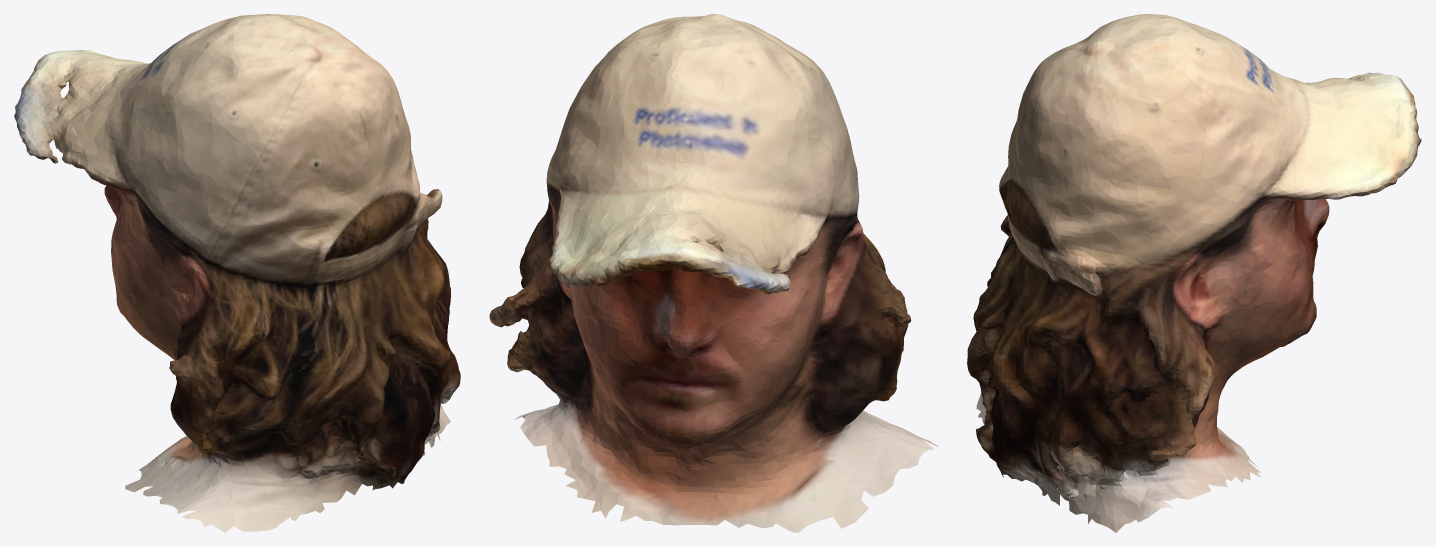
The model's file is SamHeadScan.obj.
3 renders of one model, left to right at view 1: azimuth 30°, elevation 25°; view 2: azimuth 150°, elevation 25°; view 3: azimuth 270°, elevation 25°, orthographic. The views are drawn at different scales.
Visible parts, largest first — view 1: textured; view 2: textured; view 3: textured.
Part boxes in pixels (x1=…): textured: x1=14, y1=14, x2=460, y2=532; textured: x1=489, y1=14, x2=937, y2=532; textured: x1=967, y1=14, x2=1421, y2=532.
Bounding box in the file's own units: 0.2531 × 0.3095 × 0.2965.
